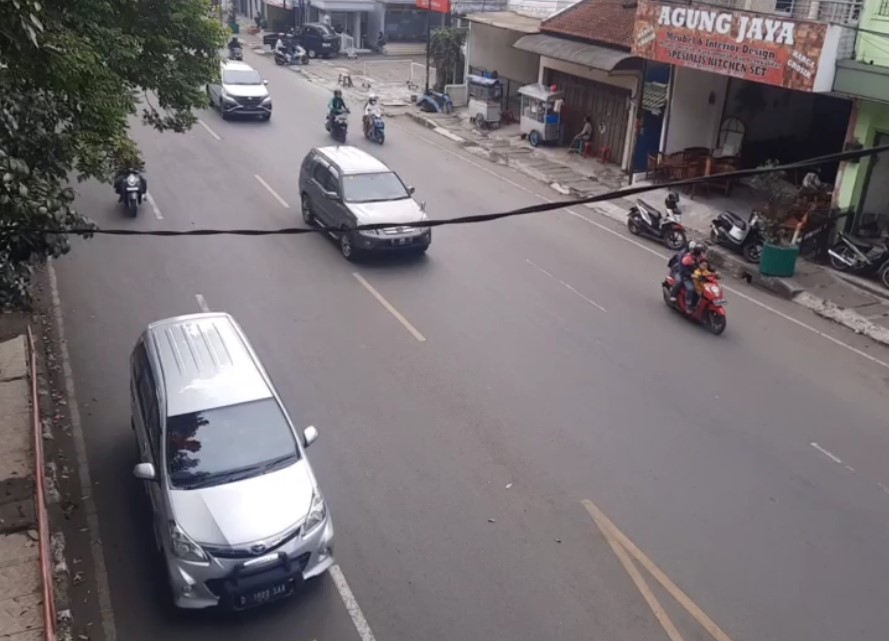mobil: (110, 309, 350, 591), (304, 143, 430, 251)
motor: (665, 236, 730, 333), (361, 96, 395, 145), (322, 88, 348, 138)
